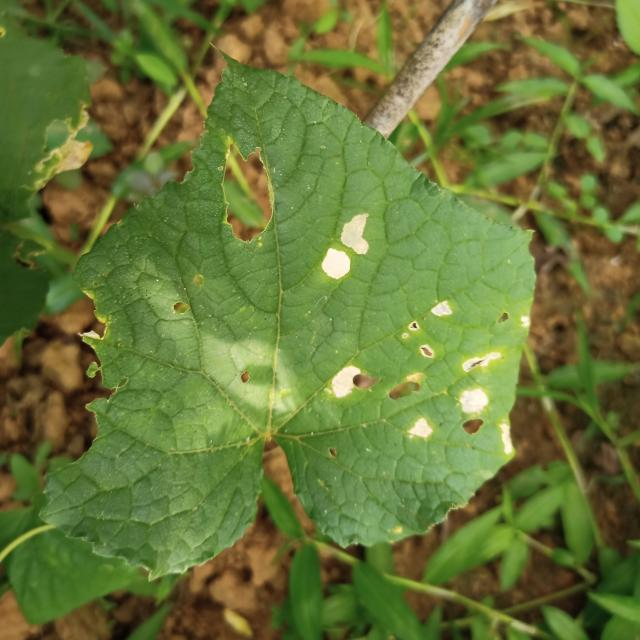disease_cucumber: (329, 301, 532, 459), (319, 209, 372, 285)
